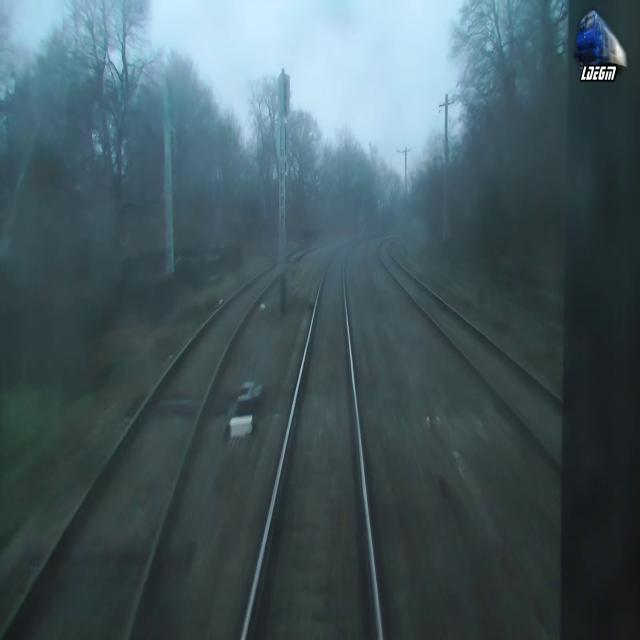rail-track: (4, 261, 279, 639), (245, 236, 377, 639), (378, 237, 562, 459), (285, 240, 325, 268)
